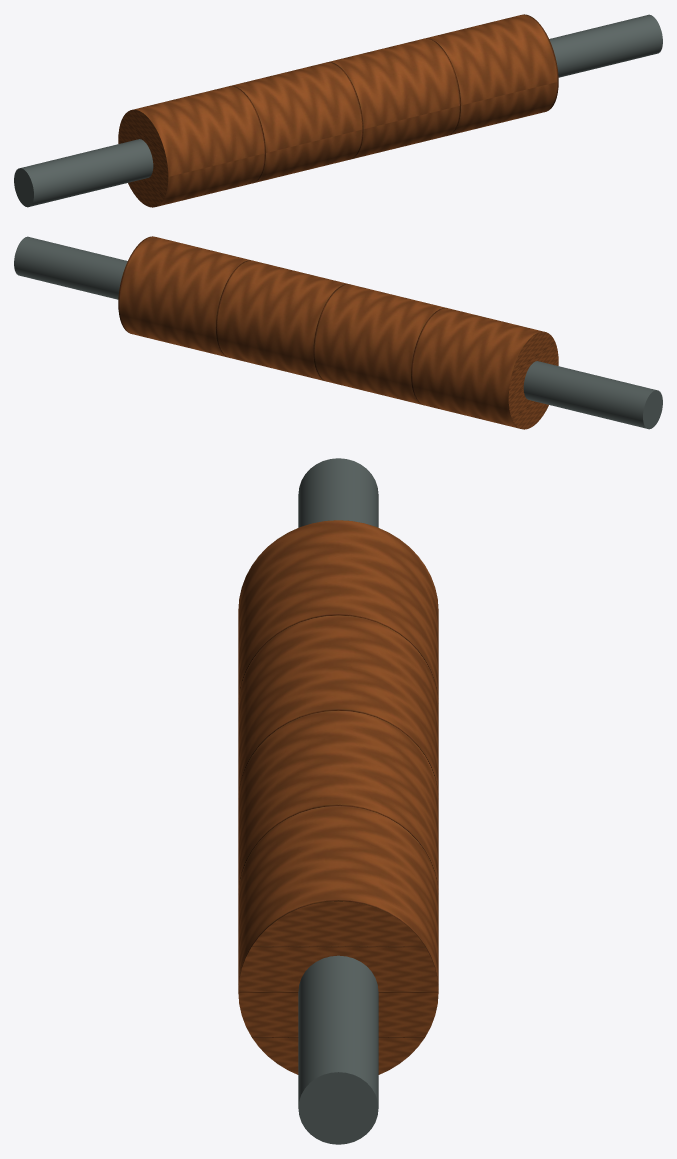
The model's file is ceramics-pottery-studio-wooden-rolling-pin-29c1037f__29499.glb.
The picture shows the model from 3 angles, top to bottom: view 1: azimuth 30°, elevation 25°; view 2: azimuth 150°, elevation 25°; view 3: azimuth 270°, elevation 25°; orthographic projection. The views are drawn at different scales.
Parts seen in each view (by area): view 1: wooden-rolling-pin; view 2: wooden-rolling-pin; view 3: wooden-rolling-pin.
Part boxes in pixels (left/top/right/bottom): wooden-rolling-pin: left=14, top=14, right=662, bottom=207; wooden-rolling-pin: left=14, top=236, right=662, bottom=429; wooden-rolling-pin: left=238, top=458, right=438, bottom=1144.
Bounding box in the file's own units: 0.58 × 0.08 × 0.08.
Materials: 2 (1 with a texture image).
